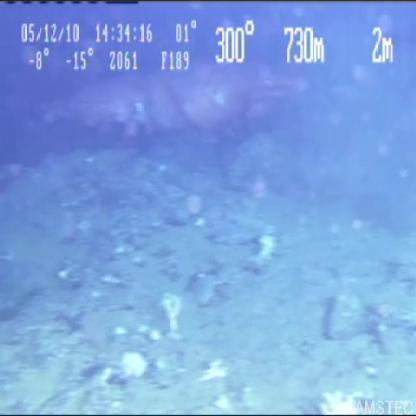Bio: (27, 52, 314, 149)
